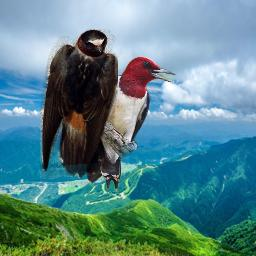Swallow: (40, 29, 118, 179)
Woodpecker: (82, 57, 179, 192)
